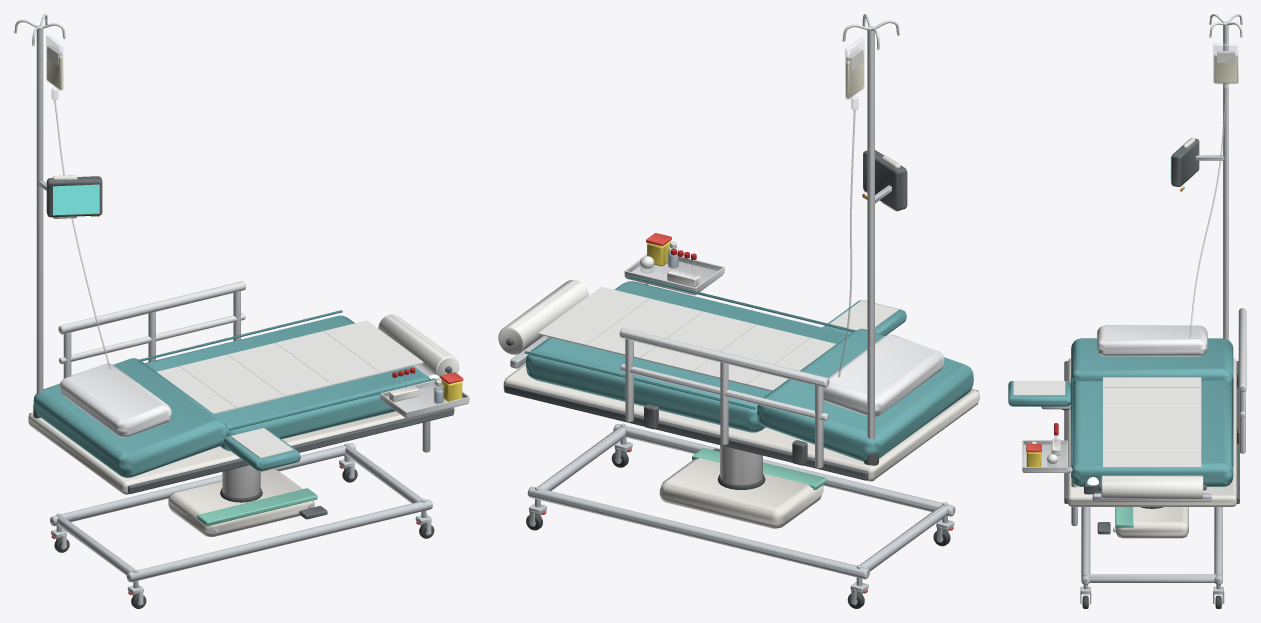
File: camilla.glb
3 renders of one model, left to right at view 1: azimuth 30°, elevation 25°; view 2: azimuth 150°, elevation 25°; view 3: azimuth 270°, elevation 25°, orthographic. The views are drawn at different scales.
Parts seen in each view (by area): view 1: papel, colchon_cabeza, colchon_cuerpo, almohada, somier, cubre_base, base_larguero-1, gotero_palo, somier_canto-1, base_larguero1, rollo, baranda_alta (+13 smaller); view 2: papel, colchon_cuerpo, colchon_cabeza, cubre_base, somier, almohada, base_larguero1, somier_canto1, gotero_palo, base_larguero-1, rollo, baranda_alta (+16 smaller); view 3: papel, colchon_cuerpo, colchon_cabeza, almohada, somier, rollo, cubre_base, gotero_palo, base_trav0.39, monitor_marco, brazal, gotero_bolsa (+11 smaller).
Boxes of the visible parts, x1,y1,x2,y2 form: papel: (156,320,423,414); colchon_cabeza: (33,358,227,477); colchon_cuerpo: (145,315,430,451); almohada: (60,363,171,437); somier: (28,407,454,494); cubre_base: (168,469,314,536); base_larguero-1: (126,499,432,582); gotero_palo: (36,25,43,431); somier_canto-1: (128,407,453,493); base_larguero1: (50,443,355,526); rollo: (378,314,458,376); baranda_alta: (58,281,245,334); papel: (538,286,835,391); colchon_cuerpo: (526,281,848,432); colchon_cabeza: (757,328,973,461); cubre_base: (659,458,823,528); somier: (503,364,979,481); almohada: (823,334,944,417); base_larguero1: (527,486,869,579); somier_canto1: (504,383,868,480); gotero_palo: (867,26,874,481); base_larguero-1: (613,424,955,516); rollo: (498,280,588,354); baranda_alta: (619,328,829,387); papel: (1103,377,1201,467); colchon_cuerpo: (1071,380,1233,486); colchon_cabeza: (1071,338,1233,384); almohada: (1097,325,1207,356); somier: (1067,358,1236,506); rollo: (1101,475,1203,498); cubre_base: (1115,507,1188,538); gotero_palo: (1223,21,1228,340); base_trav0.39: (1087,574,1216,582); monitor_marco: (1171,138,1199,186); brazal: (1008,381,1070,406); gotero_bolsa: (1213,43,1238,83).
Size of the model in its own units: 0.6417 by 0.8945 by 0.4199.
